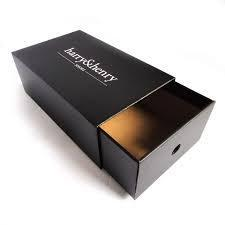box: (12, 29, 216, 202)
